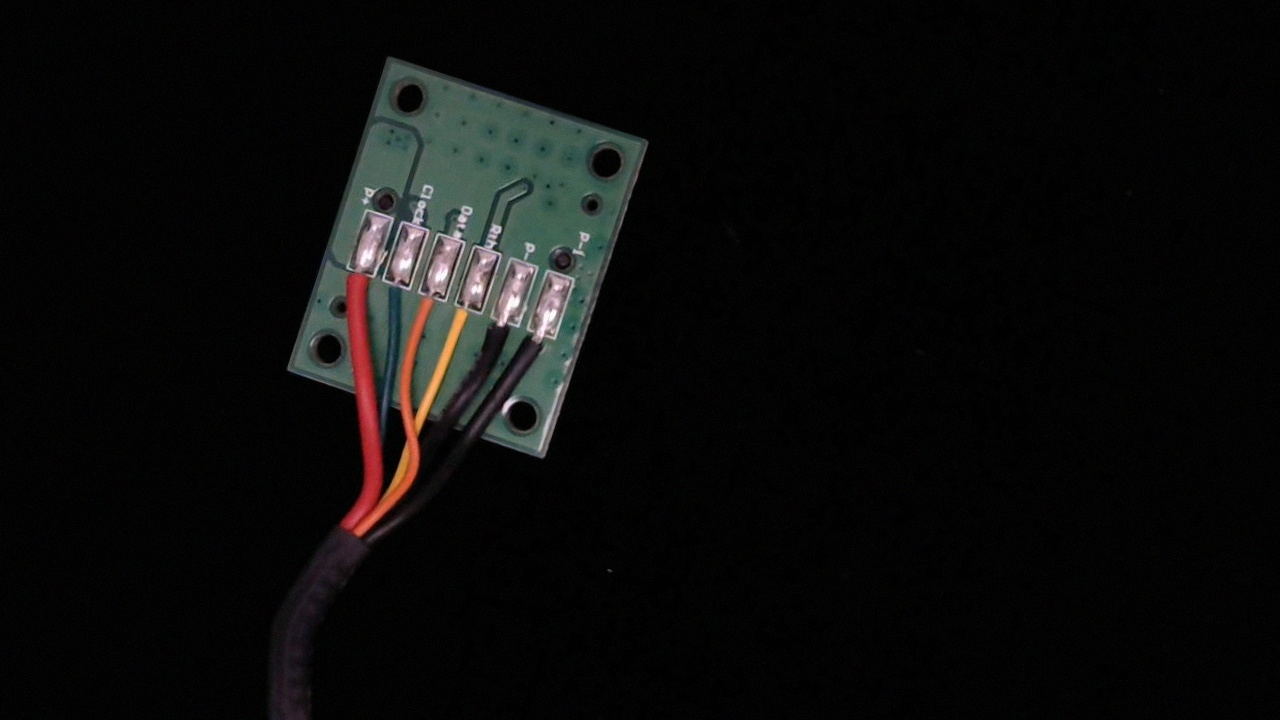Black: (471, 299, 525, 379)
Black1: (513, 310, 565, 383)
Green: (369, 263, 418, 331)
Orange: (402, 272, 453, 341)
Red: (330, 253, 381, 322)
Yellow: (436, 286, 490, 367)
